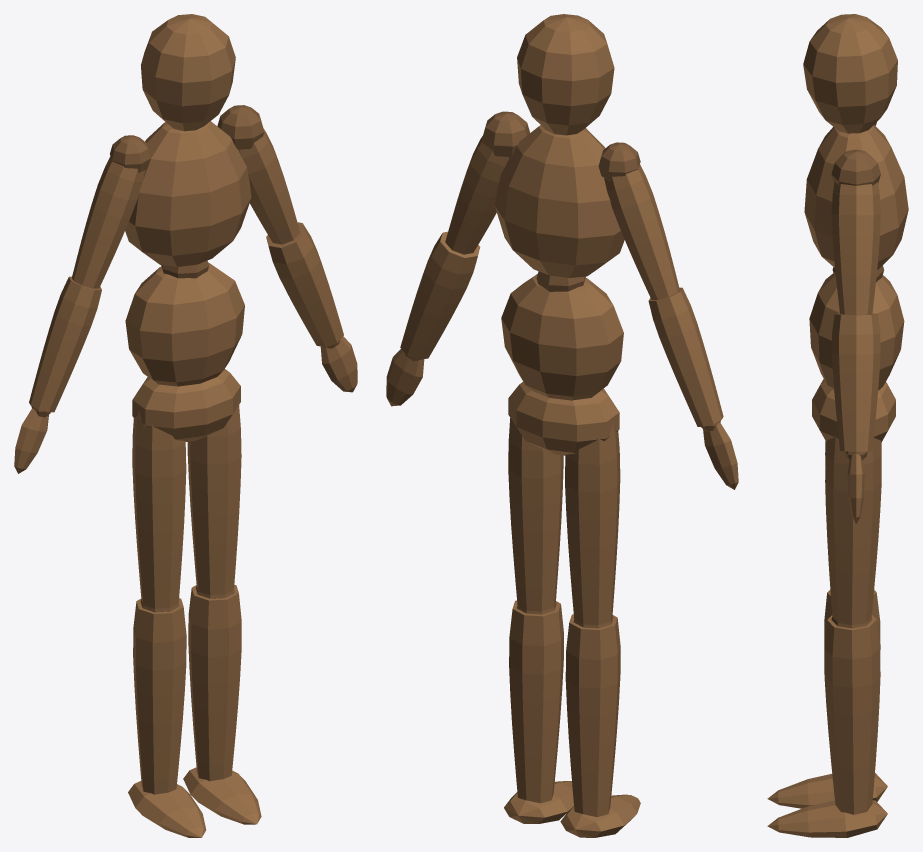
File: mannequin-rest.glb
3 renders of one model, left to right at view 1: azimuth 30°, elevation 25°; view 2: azimuth 150°, elevation 25°; view 3: azimuth 270°, elevation 25°, orthographic. The views are drawn at different scales.
Visible parts, largest first — view 1: chest, abdomen, shin_L, shin_R, head, thigh_R, thigh_L, pelvis, upper_arm_R, forearm_R, forearm_L, upper_arm_L (+6 smaller); view 2: chest, abdomen, shin_R, shin_L, head, thigh_R, thigh_L, pelvis, upper_arm_R, forearm_R, forearm_L, upper_arm_L (+7 smaller); view 3: shin_L, head, thigh_L, chest, forearm_L, upper_arm_L, abdomen, foot_L, pelvis, foot_R, shoulder_L, hand_L (+1 smaller).
Part boxes in pixels (x1=…): chest: x1=125, y1=121, x2=251, y2=266; abdomen: x1=125, y1=262, x2=244, y2=386; shin_L: x1=188, y1=584, x2=241, y2=781; shin_R: x1=133, y1=598, x2=186, y2=794; head: x1=141, y1=14, x2=235, y2=131; thigh_R: x1=132, y1=415, x2=186, y2=608; thigh_L: x1=187, y1=402, x2=241, y2=595; pelvis: x1=132, y1=369, x2=240, y2=441; upper_arm_R: x1=72, y1=156, x2=145, y2=288; forearm_R: x1=29, y1=276, x2=101, y2=412; forearm_L: x1=266, y1=222, x2=343, y2=347; upper_arm_L: x1=238, y1=128, x2=300, y2=244; chest: x1=495, y1=125, x2=624, y2=277; abdomen: x1=501, y1=274, x2=623, y2=400; shin_R: x1=565, y1=614, x2=620, y2=816; shin_L: x1=509, y1=600, x2=563, y2=803; head: x1=517, y1=14, x2=614, y2=135; thigh_R: x1=565, y1=428, x2=620, y2=625; thigh_L: x1=508, y1=415, x2=563, y2=611; pelvis: x1=508, y1=382, x2=619, y2=455; upper_arm_R: x1=604, y1=164, x2=679, y2=299; forearm_R: x1=648, y1=287, x2=723, y2=426; forearm_L: x1=400, y1=231, x2=480, y2=359; upper_arm_L: x1=445, y1=136, x2=509, y2=254; shin_L: x1=824, y1=615, x2=880, y2=814; head: x1=803, y1=14, x2=897, y2=133; thigh_L: x1=825, y1=434, x2=881, y2=625; chest: x1=804, y1=125, x2=908, y2=269; forearm_L: x1=832, y1=313, x2=880, y2=451; upper_arm_L: x1=831, y1=182, x2=880, y2=314; abdomen: x1=809, y1=273, x2=904, y2=390; foot_L: x1=767, y1=800, x2=887, y2=837; pelvis: x1=812, y1=379, x2=895, y2=442; foot_R: x1=767, y1=773, x2=887, y2=808; shoulder_L: x1=831, y1=149, x2=880, y2=185; hand_L: x1=847, y1=454, x2=864, y2=523.
Size of the model in its own units: 3.73 by 8.2 by 1.31.
